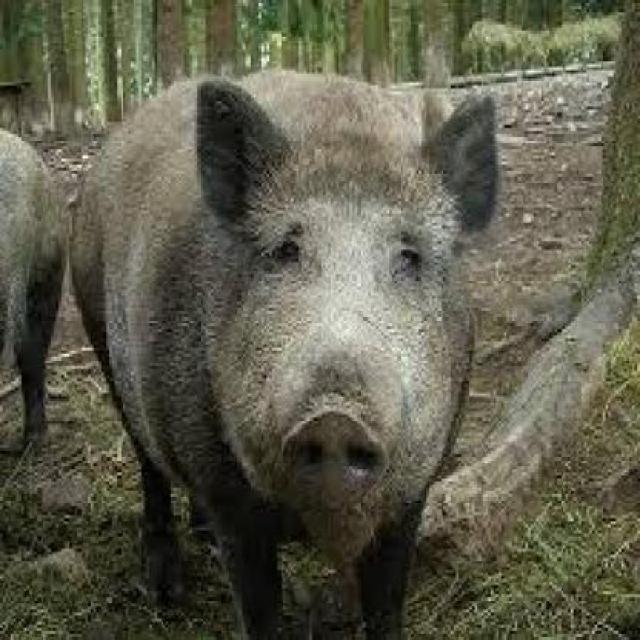wildboar: (67, 67, 501, 640), (0, 118, 66, 462)
